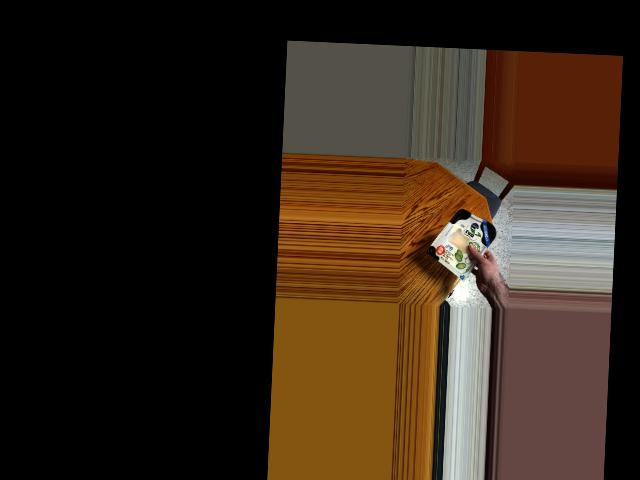cheese: (430, 210, 501, 270)
